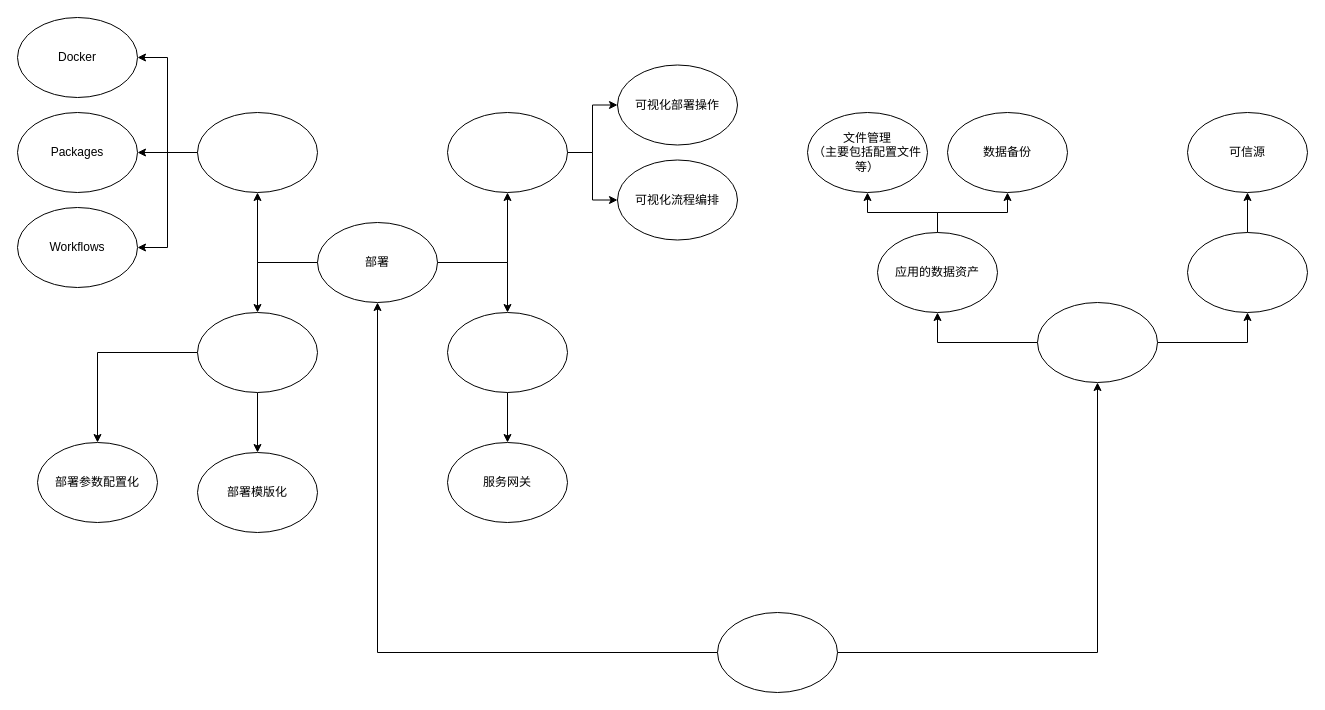
The diagram is 1325 pixels wide and 710 high, and some of its shapes have lost their labels. The shapes that lost their labels are listed below. From the top down, each one's centre as x and y in pixels, then its label:
(x=257, y=152): 多种方式部署
(x=507, y=152): 可视化
(x=1247, y=272): 可信源 的安全更新
(x=257, y=352): 可持续
(x=507, y=352): 可发布
(x=1097, y=342): 安全
(x=777, y=652): APP
